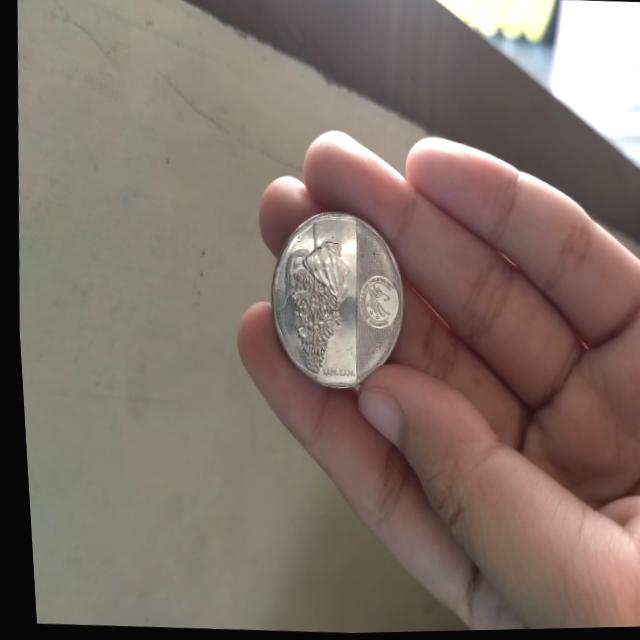10_New_Back: (260, 218, 353, 390)
